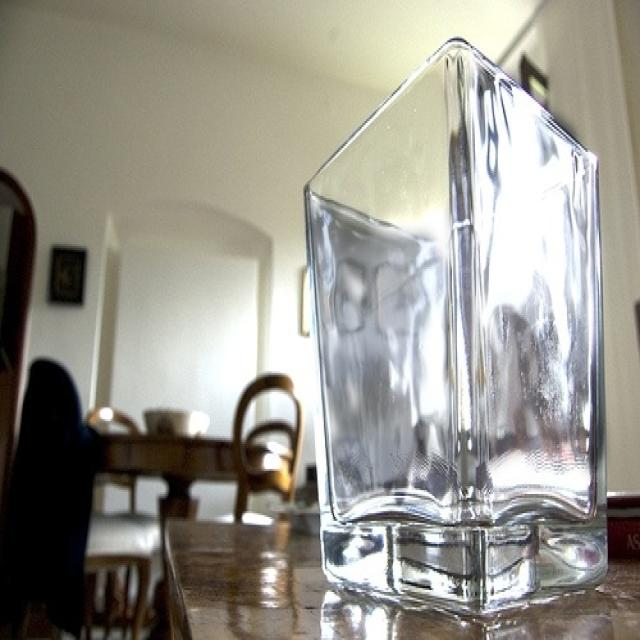Glass: (282, 24, 626, 631)
